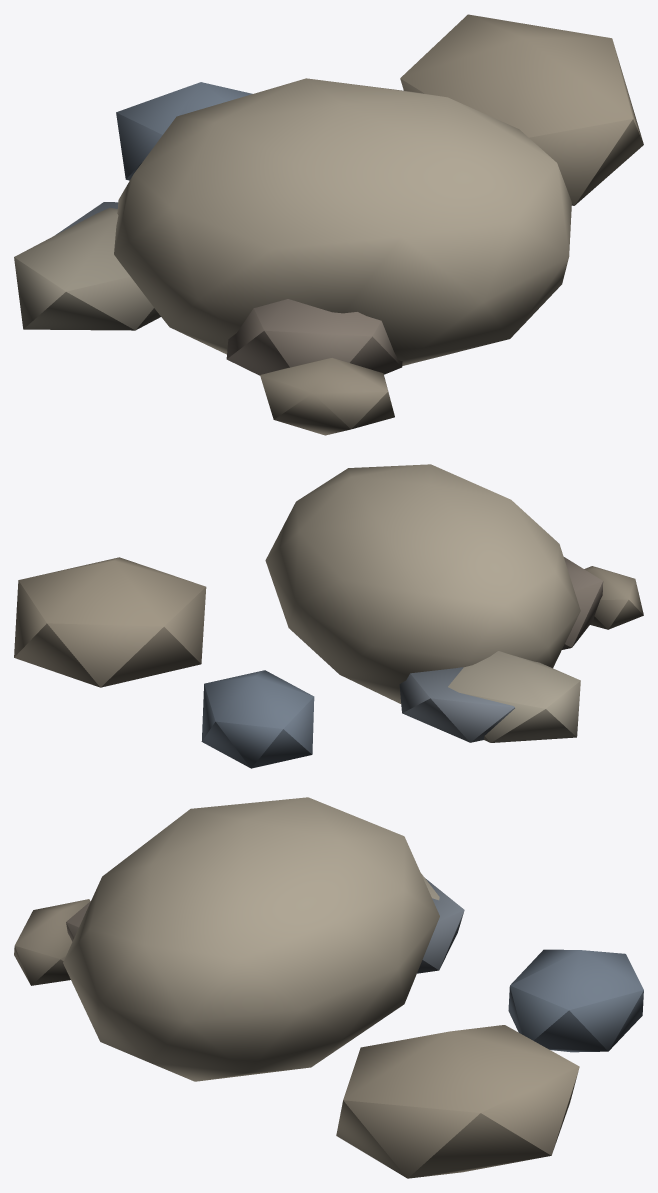
The model's file is PB_Pebbles_A.glb.
3 renders of one model, top to bottom at view 1: azimuth 30°, elevation 25°; view 2: azimuth 150°, elevation 25°; view 3: azimuth 270°, elevation 25°, orthographic. The views are drawn at different scales.
Visible parts, largest first — view 1: PB_Pebbles_A_1_SmoothPlastic; view 2: PB_Pebbles_A_1_SmoothPlastic; view 3: PB_Pebbles_A_1_SmoothPlastic.
Part boxes in pixels (<box>): PB_Pebbles_A_1_SmoothPlastic: <box>14,14,643,435</box>; PB_Pebbles_A_1_SmoothPlastic: <box>14,464,643,768</box>; PB_Pebbles_A_1_SmoothPlastic: <box>14,797,643,1178</box>.
Bounding box in the file's own units: 7.31 × 2.73 × 6.68.
